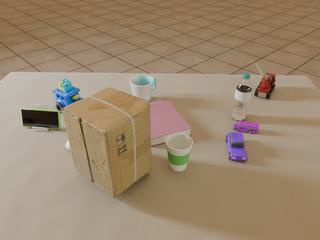book: (149, 99, 191, 146)
bottle: (231, 73, 252, 121)
box: (61, 88, 152, 198)
cup: (166, 133, 193, 171), (130, 75, 156, 102)
phone: (21, 108, 61, 129)
toy_car: (53, 78, 84, 113), (254, 63, 276, 99), (226, 132, 247, 160), (233, 121, 259, 133)
